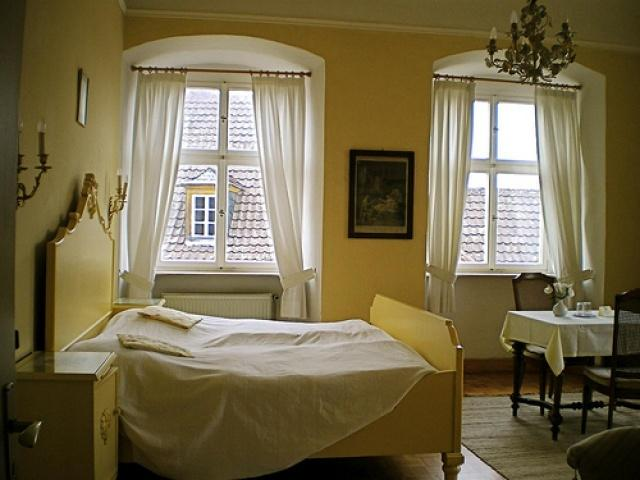Kursi: (579, 287, 639, 433)
